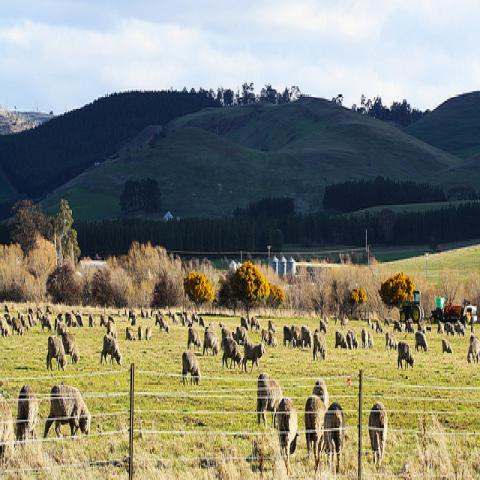truck: (398, 288, 425, 324), (431, 306, 460, 325), (460, 299, 478, 324)
